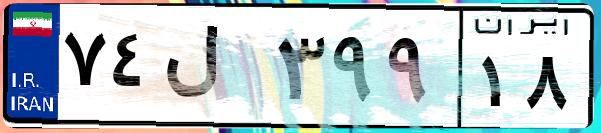1: (475, 38, 525, 113)
3: (270, 28, 330, 110)
4: (110, 28, 158, 98)
7: (57, 26, 110, 100)
8: (525, 38, 570, 115)
9: (385, 28, 445, 110), (330, 28, 385, 110)
ل: (158, 20, 270, 120)
